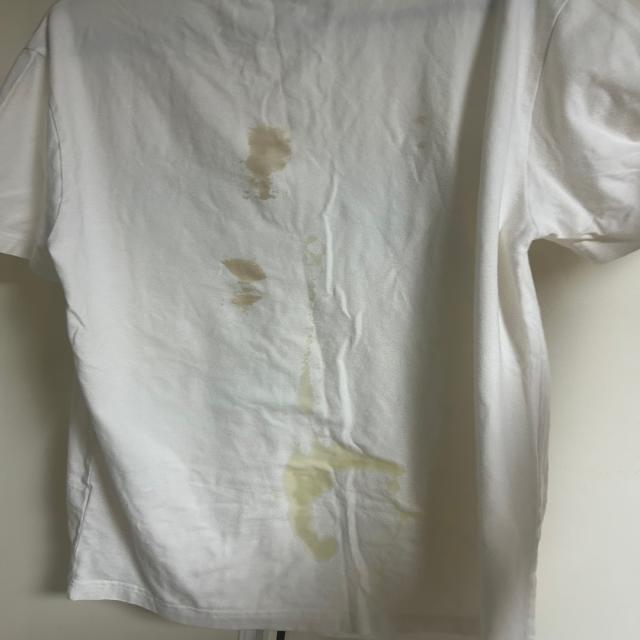stain: (280, 442, 394, 560), (240, 122, 298, 206), (388, 483, 458, 534), (218, 254, 266, 310), (288, 351, 326, 421), (295, 235, 343, 282), (404, 110, 439, 148)
